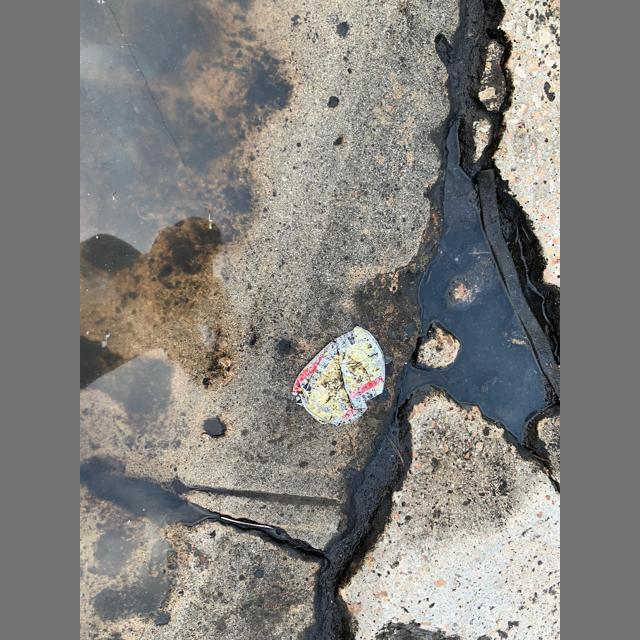litter: (291, 326, 385, 427), (221, 516, 274, 529)
